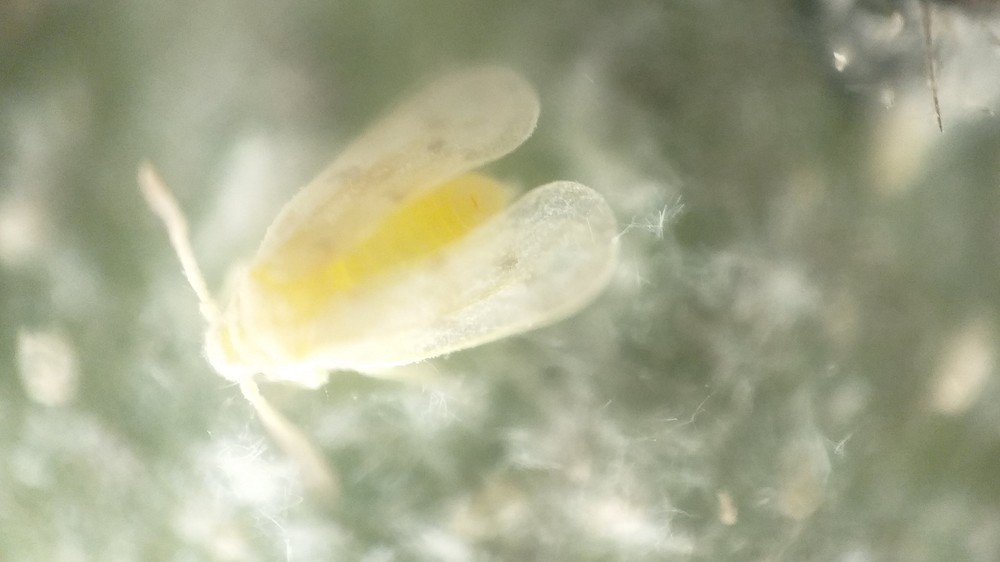Mosca Blanca: (135, 61, 634, 535)
